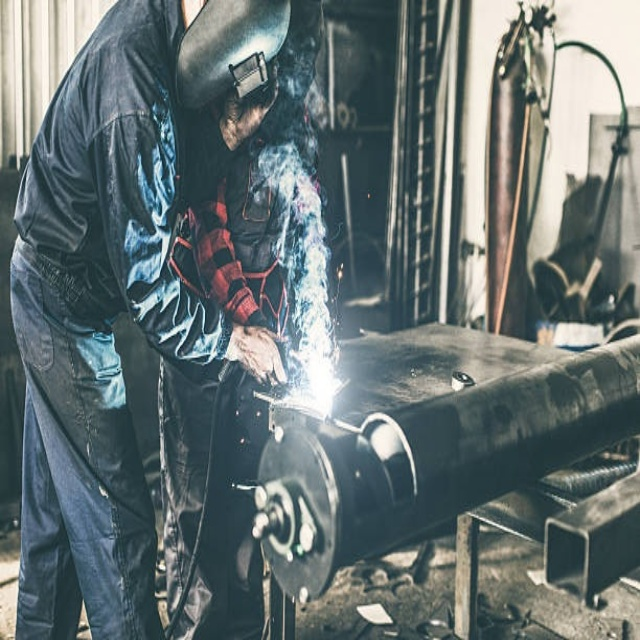Guantes: (223, 314, 290, 394)
